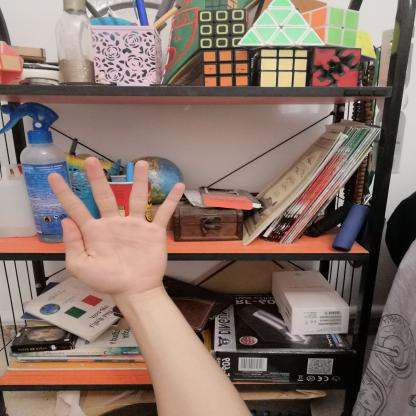SHEEN: (38, 150, 192, 298)
